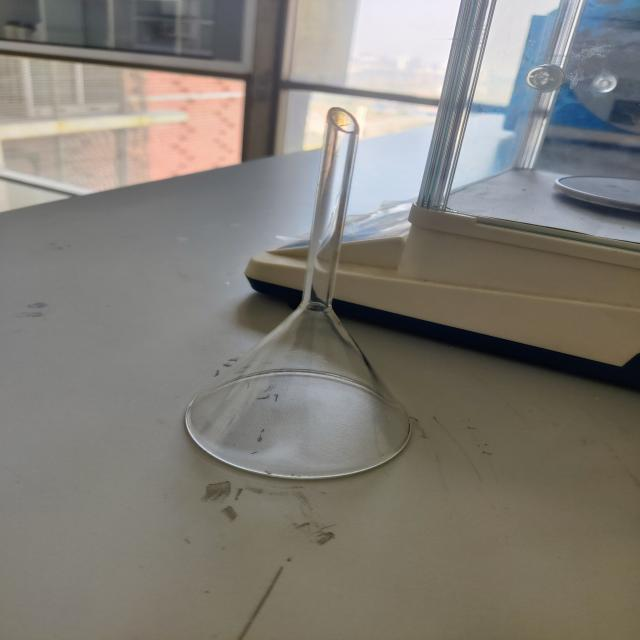Funnel: (169, 79, 437, 512)
